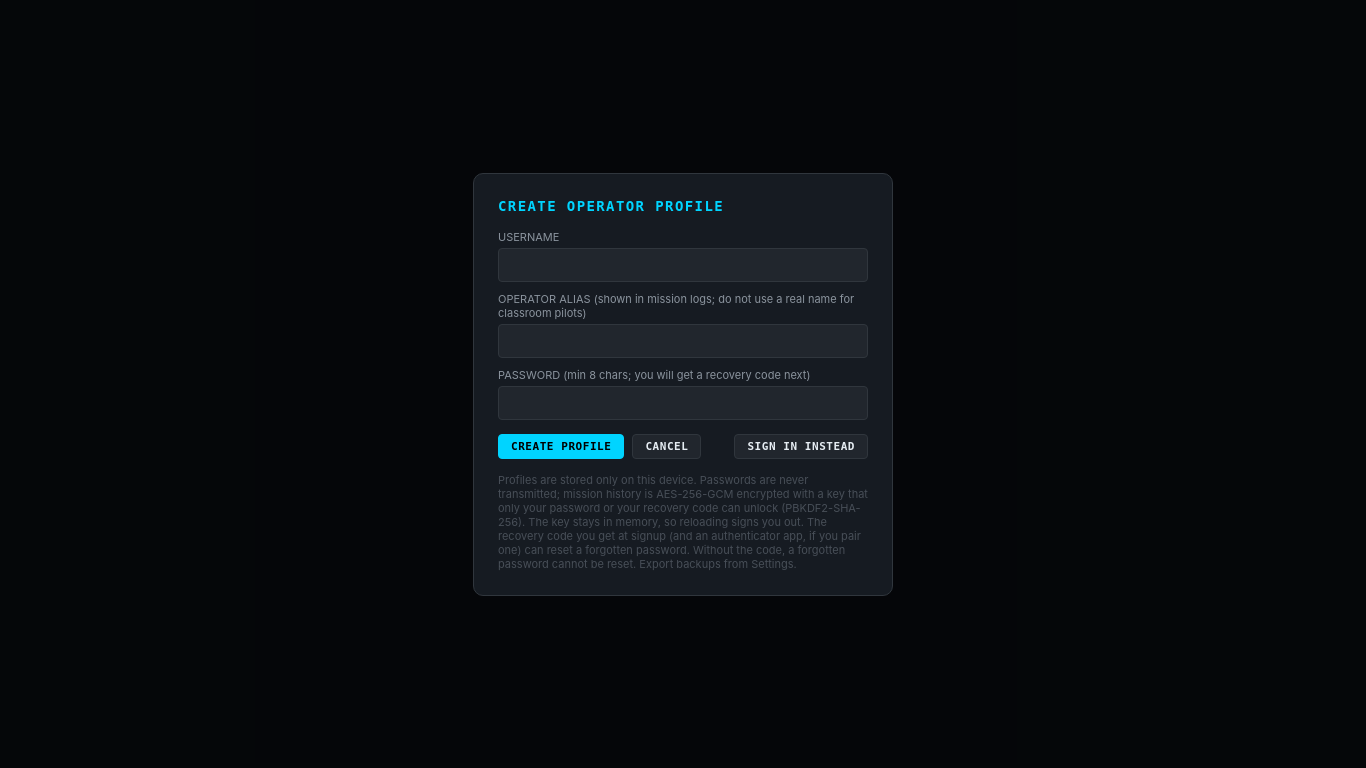
Test: SignInModal › creates a profile from the form, signs the operator in, and closes the modal
The width and height of the screenshot is (1366, 768).
Expected: the text "CREATE OPERATOR PROFILE" is shown, [498,198,724,214]
Type "fieldop" into the field labelled "USERNAME" at (683, 264), box [498,248,868,282]
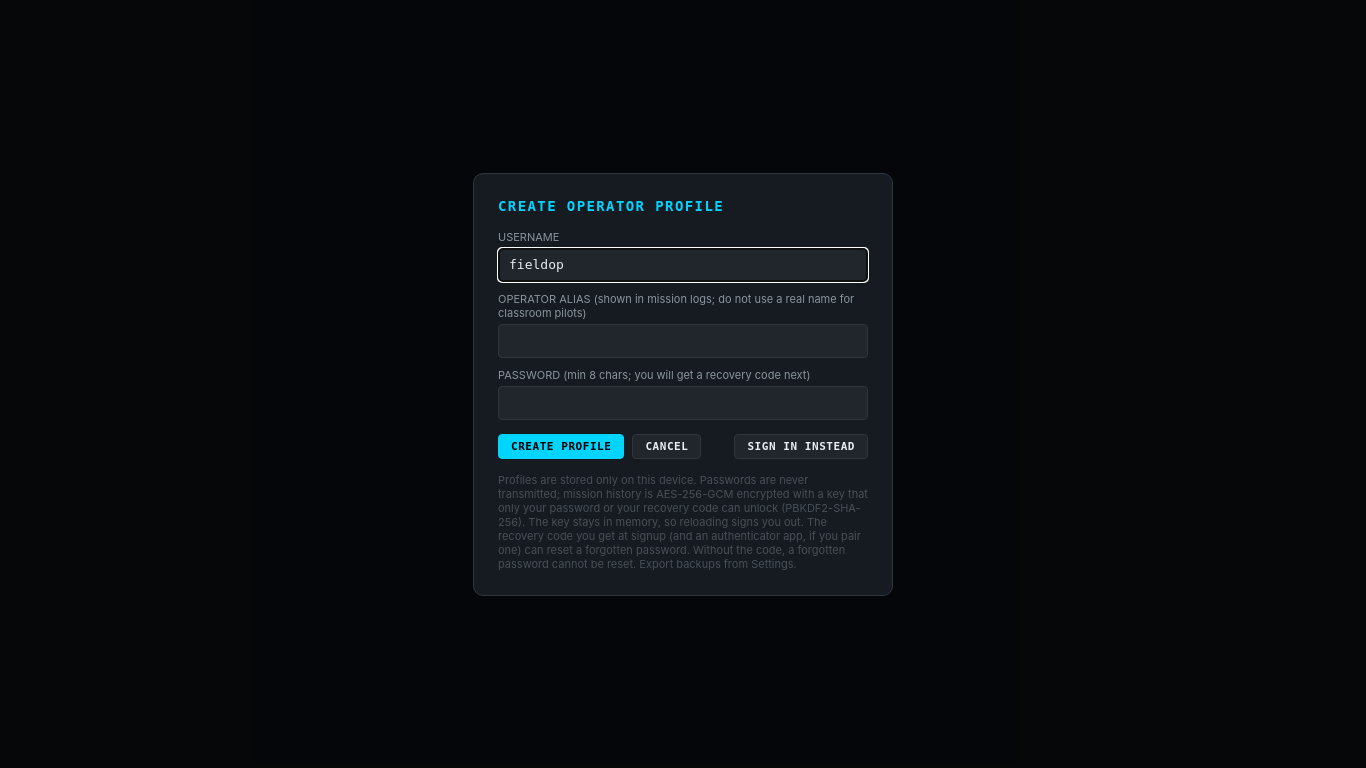
Type "Field Op" into the field labelled "OPERATOR ALIAS" at (683, 340), box [498,324,868,358]
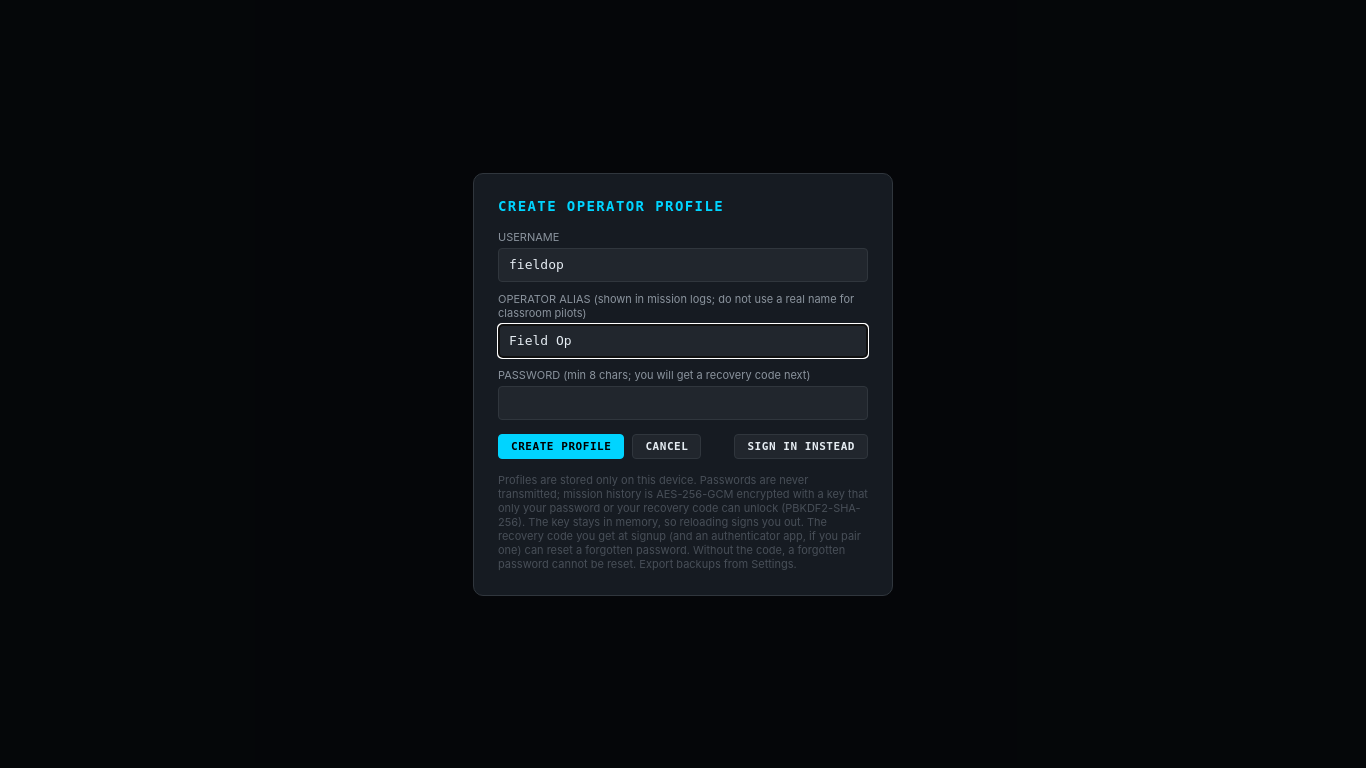
Type "password123" into the password field labelled "PASSWORD (min 8 chars; you will get a recovery code next)" at (683, 402), box [498,386,868,420]
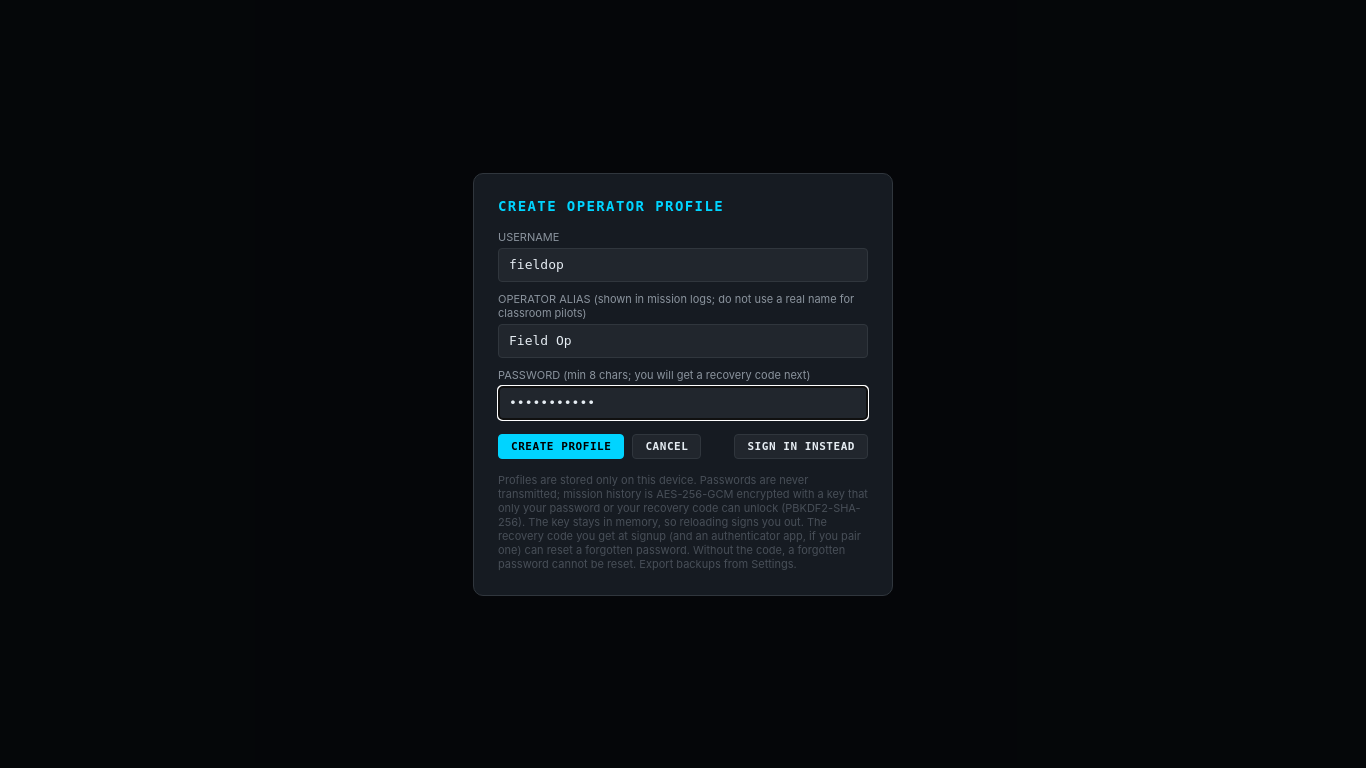
Click the button "CREATE PROFILE" at (561, 446), box [498,434,624,458]
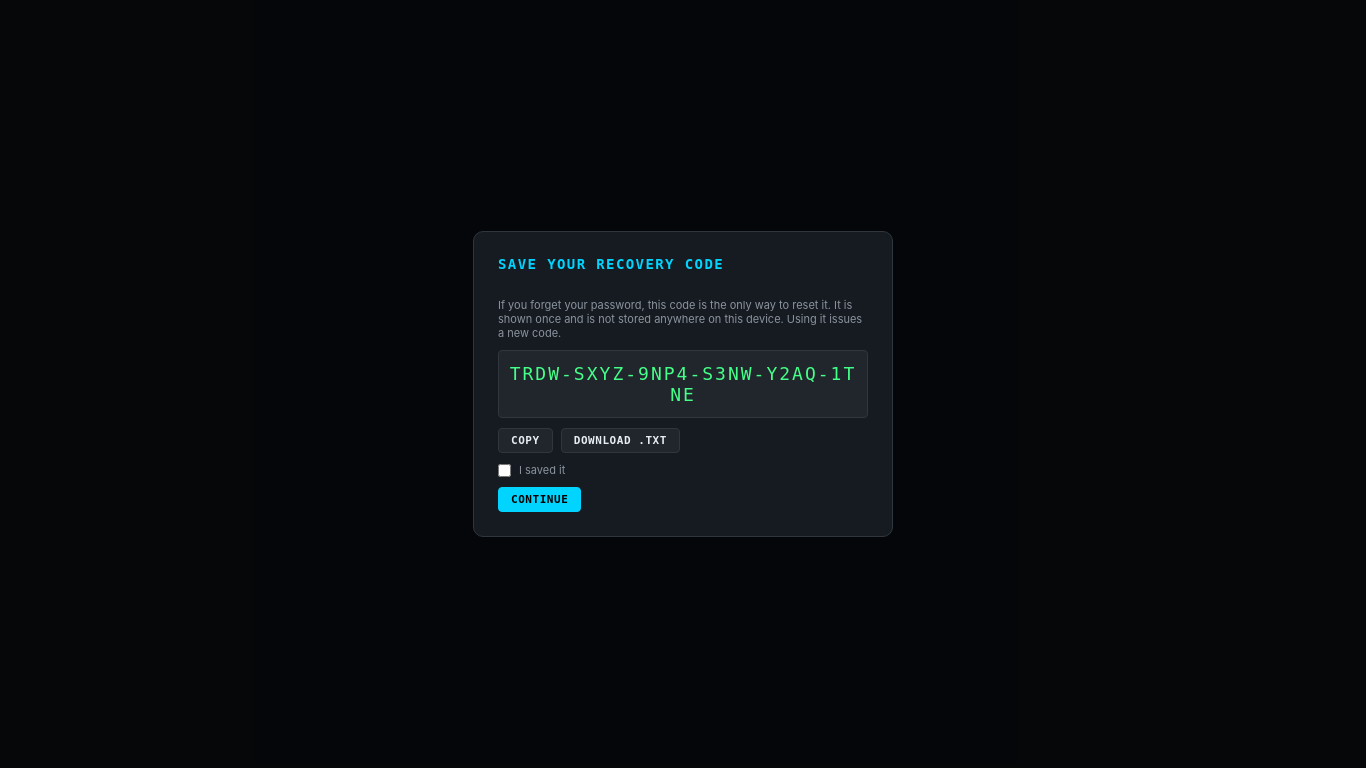
Expected: the element with test id "signin-modal" is gone
